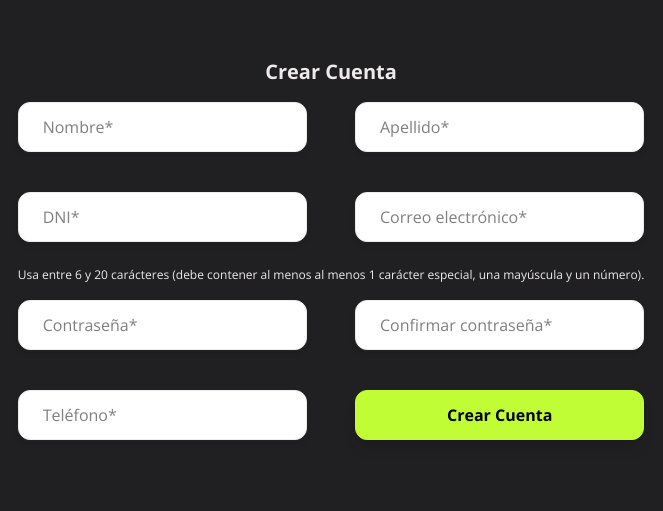
Test: SignupPage › muestra error si el email es inválido
Type "no-es-email" into the field with test id "email-input" at [500, 217], box [355, 192, 644, 242]
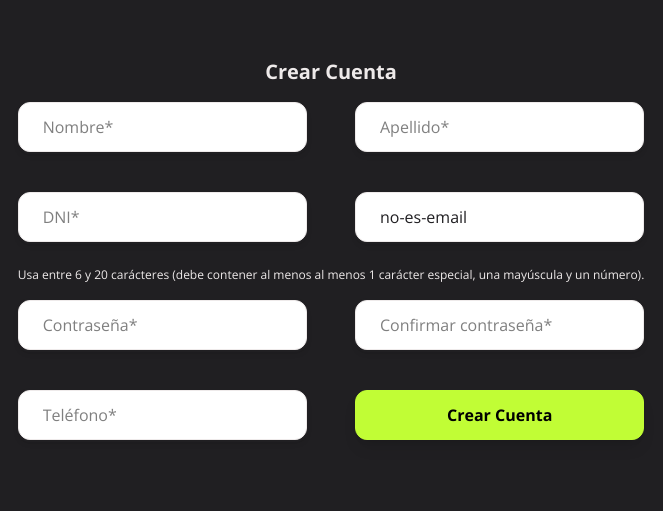
Click the button with test id "submit-button" at [500, 415], box [355, 390, 644, 440]
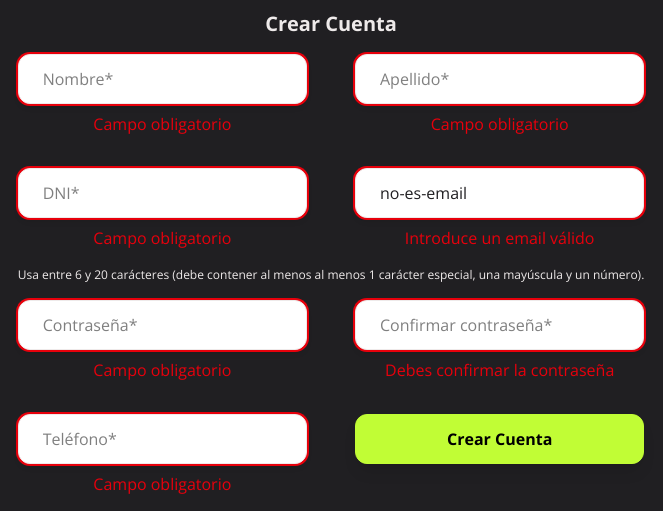
expect the text "Introduce un email válido" is shown: met, box [405, 227, 594, 249]
